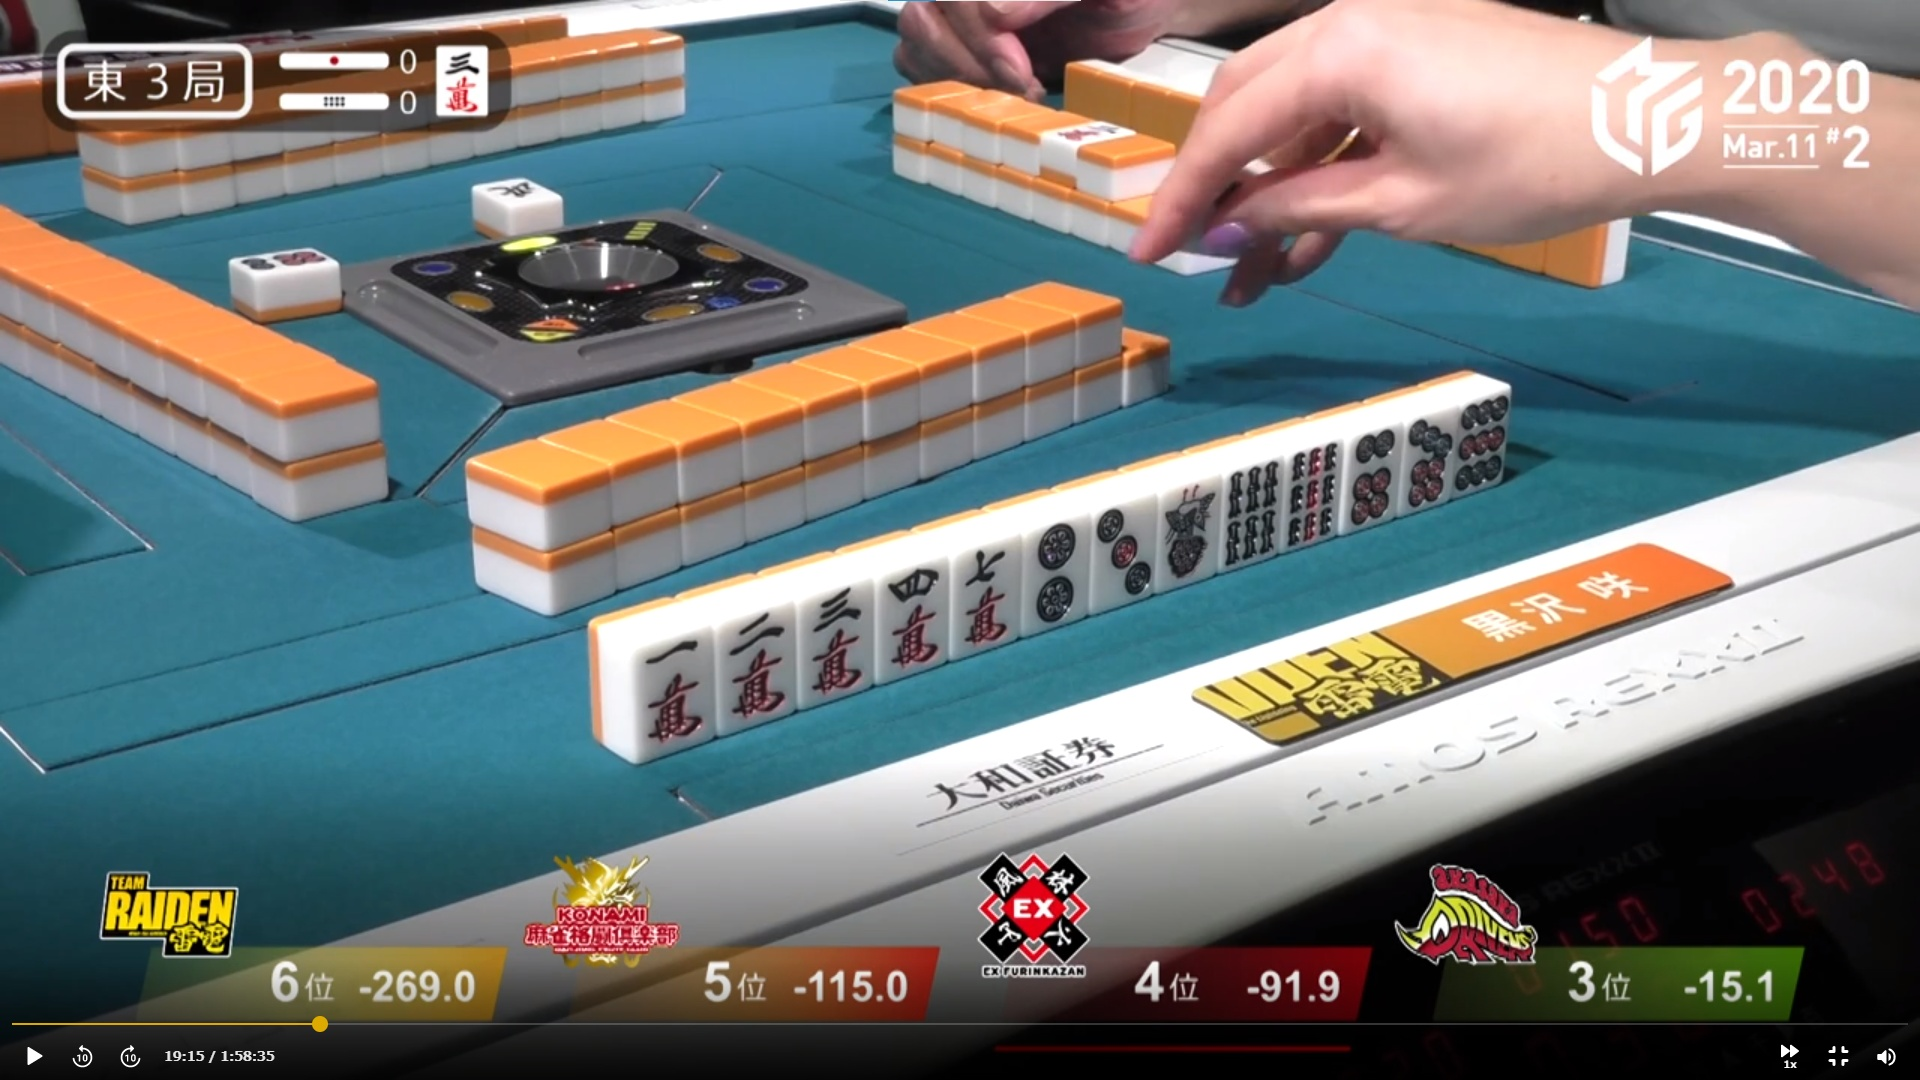1m: (626, 622, 707, 753)
1s: (1154, 467, 1211, 587)
2m: (715, 595, 790, 727)
2p: (1023, 512, 1075, 628)
3m: (800, 578, 862, 696)
3p: (1087, 479, 1153, 607)
4m: (873, 559, 949, 671)
6p: (1342, 419, 1395, 527)
6s: (1215, 448, 1279, 563)
7m: (953, 534, 1015, 653)
7p: (1403, 404, 1451, 509)
9p: (1453, 375, 1507, 495)
9s: (1278, 434, 1337, 545)
hand_ton_3: (47, 37, 265, 131)
round_0: (264, 86, 422, 121)
team_raiden: (1180, 620, 1447, 742)
